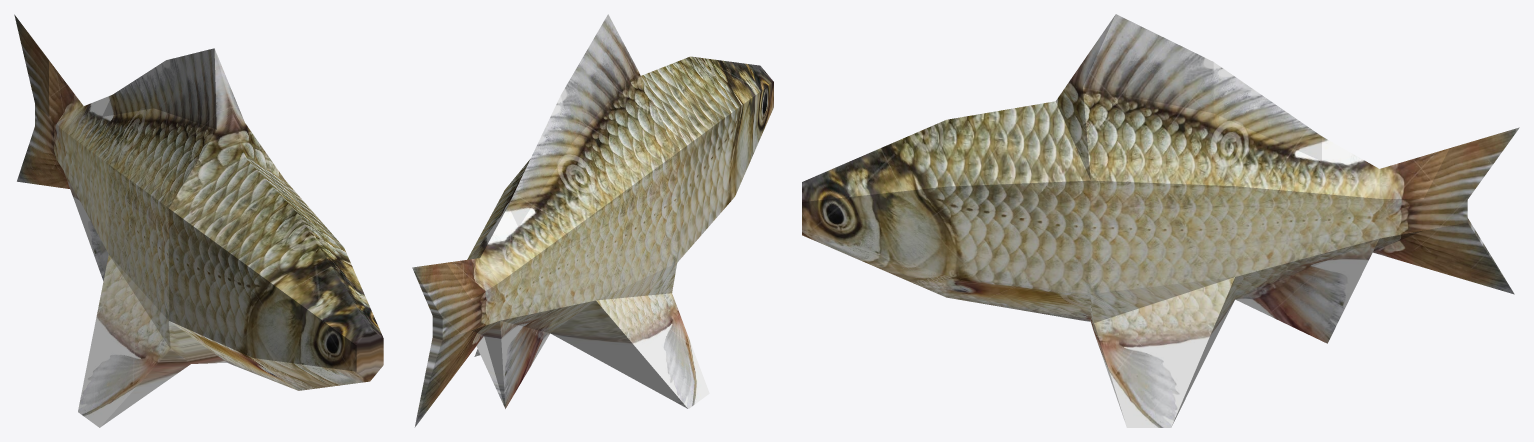
Rendered from fis.fbx.
The picture shows the model from 3 angles, left to right: view 1: azimuth 30°, elevation 25°; view 2: azimuth 150°, elevation 25°; view 3: azimuth 270°, elevation 25°; orthographic projection. The views are drawn at different scales.
Parts seen in each view (by area): view 1: Cylinder; view 2: Cylinder; view 3: Cylinder.
Boxes of the visible parts, x1,y1,x2,y2 form: Cylinder: [14, 14, 383, 427]; Cylinder: [412, 14, 773, 427]; Cylinder: [802, 14, 1519, 427].
Bounding box in the file's own units: 166 × 259 × 469.
